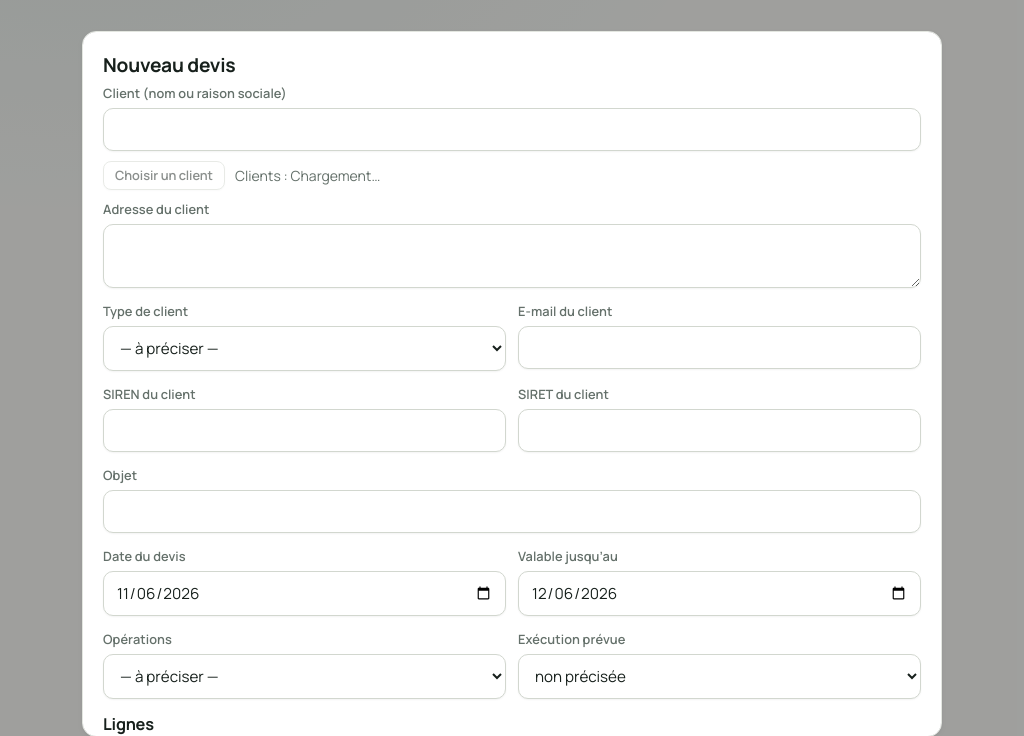
Test case: drapeau levé › un client déjà saisi qui diffère ne se remplace qu’après confirmation
Step 1. Type "Autre client" into the field labelled "Client (nom ou raison sociale)" → (512, 129), box top-left (103, 108), bottom-right (921, 151)
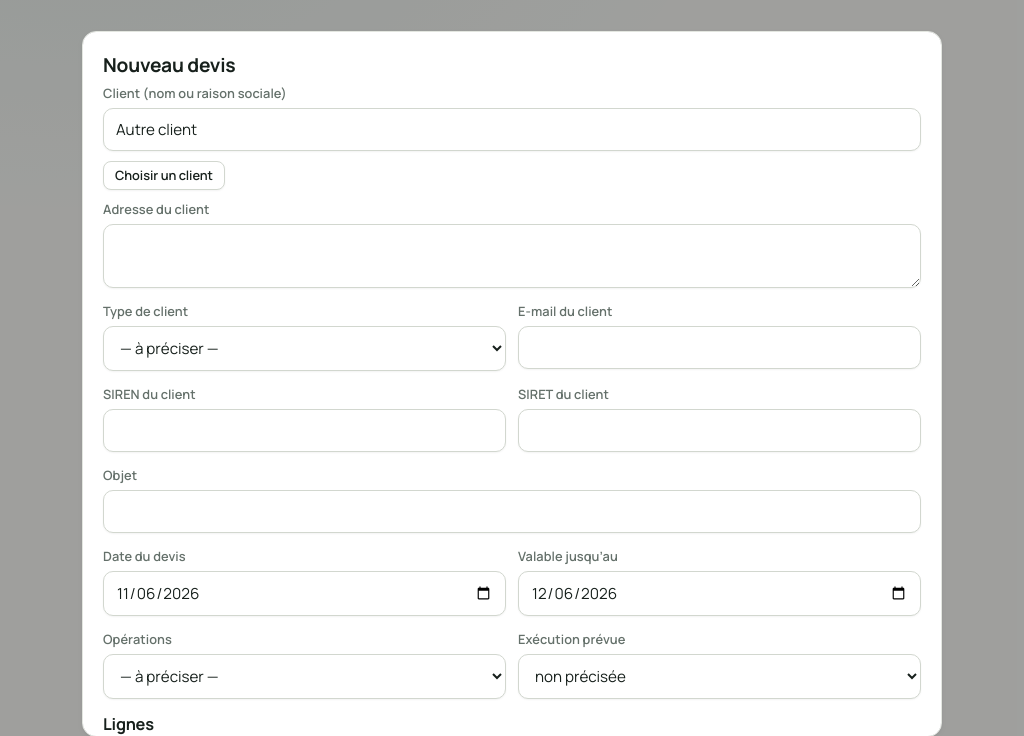
Expected: the button "Choisir un client" is enabled
Step 2. Click the button "Choisir un client" → (164, 175), box top-left (103, 161), bottom-right (225, 190)
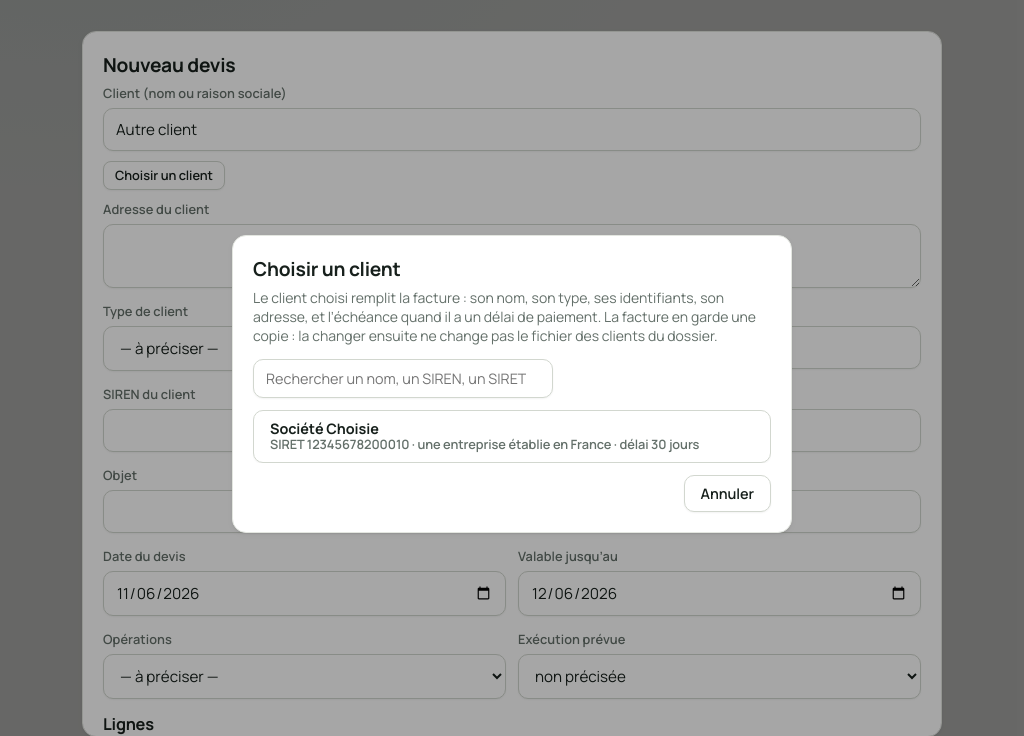
Step 3. Click the button "Société Choisie" → (512, 436), box top-left (253, 410), bottom-right (771, 463)
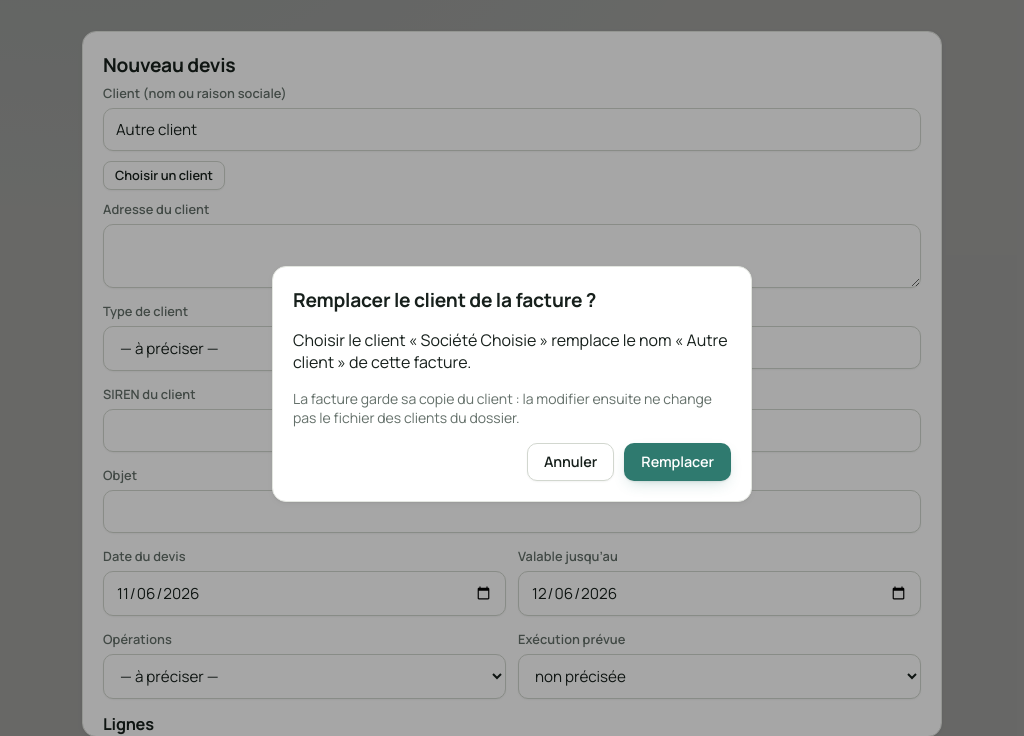
Step 4. Click the button "Remplacer" → (678, 462), box top-left (624, 443), bottom-right (731, 481)
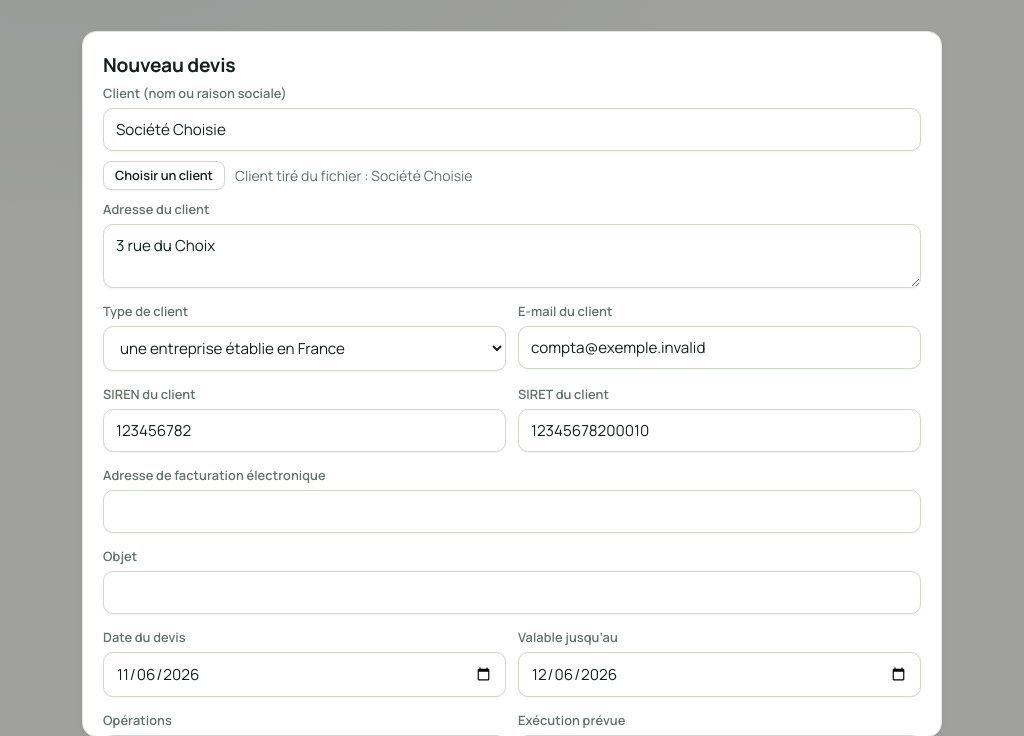
Expected: the field labelled "Client (nom ou raison sociale)" holds "Société Choisie", top-left (103, 108), bottom-right (921, 151)
